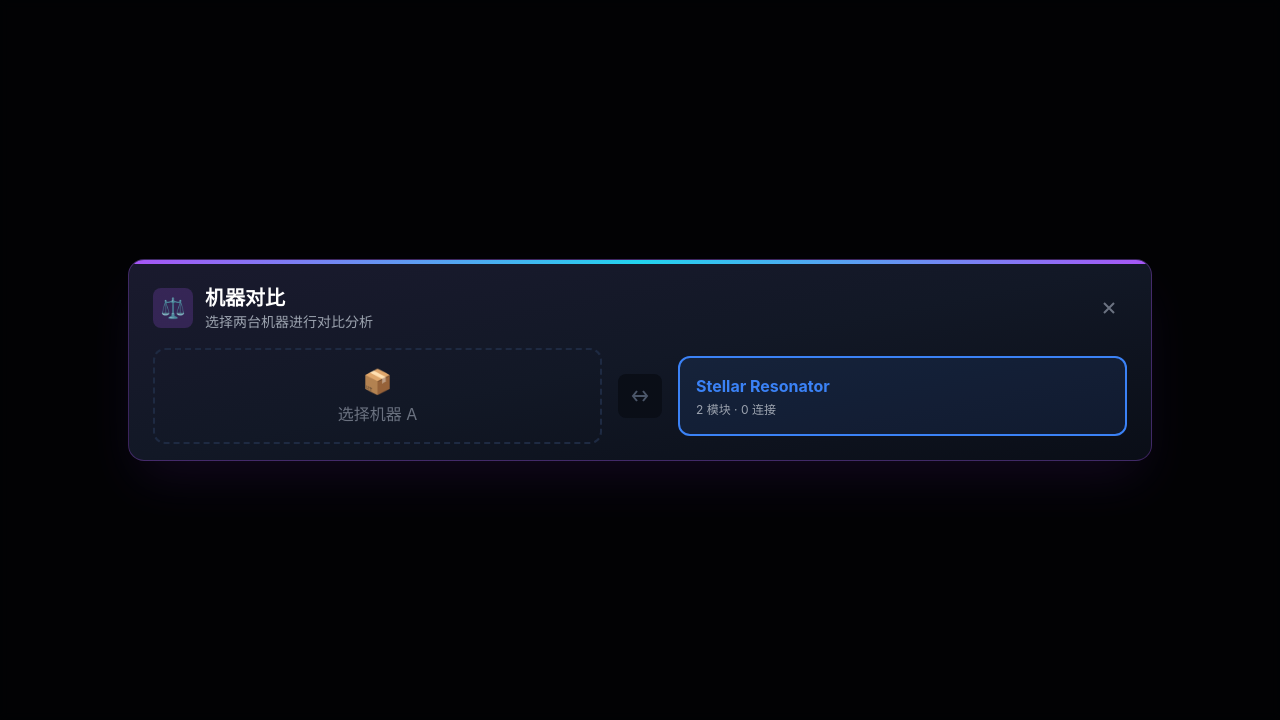
Scenario: MachineComparisonPanel › Machine Selection Modal › disables machine B option when selecting machine A (since B is already selected)
This screenshot has width=1280, height=720.
Click the button with test id "select-machine-a-button" at (378, 396), box [153,348,602,444]
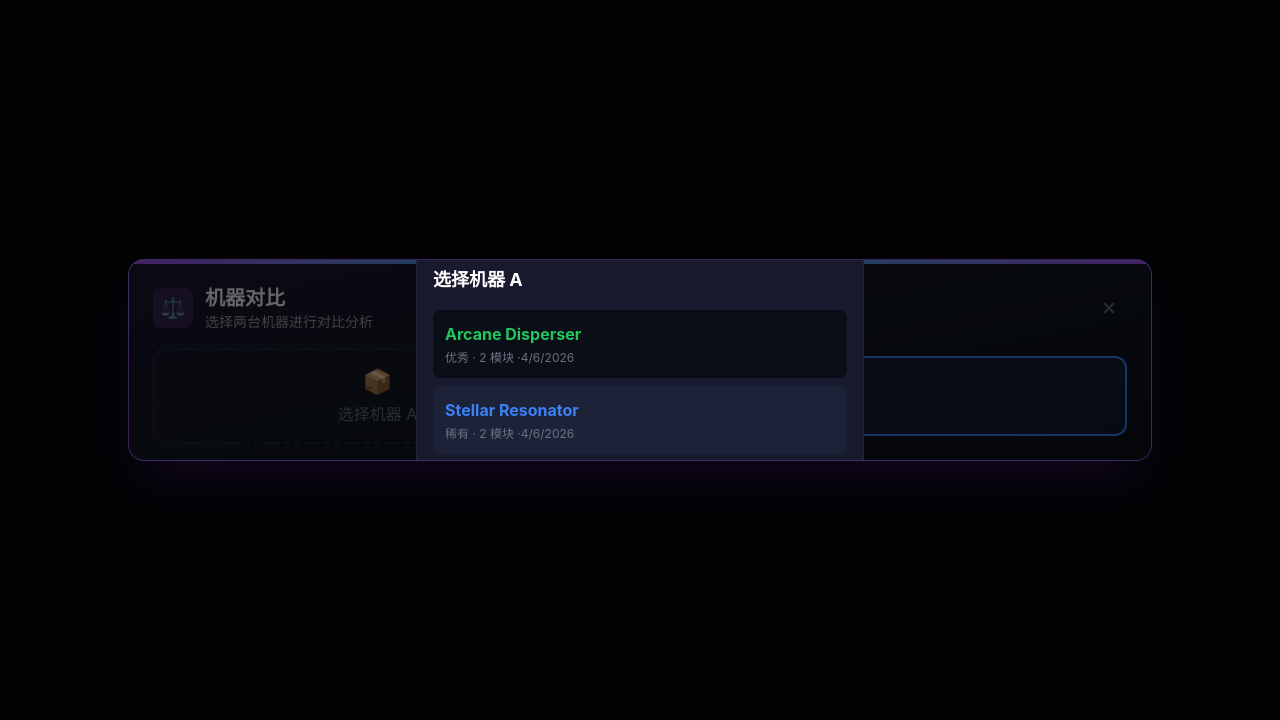
Now the button with test id "select-machine-option-2" is disabled, box [433,386,847,454]
